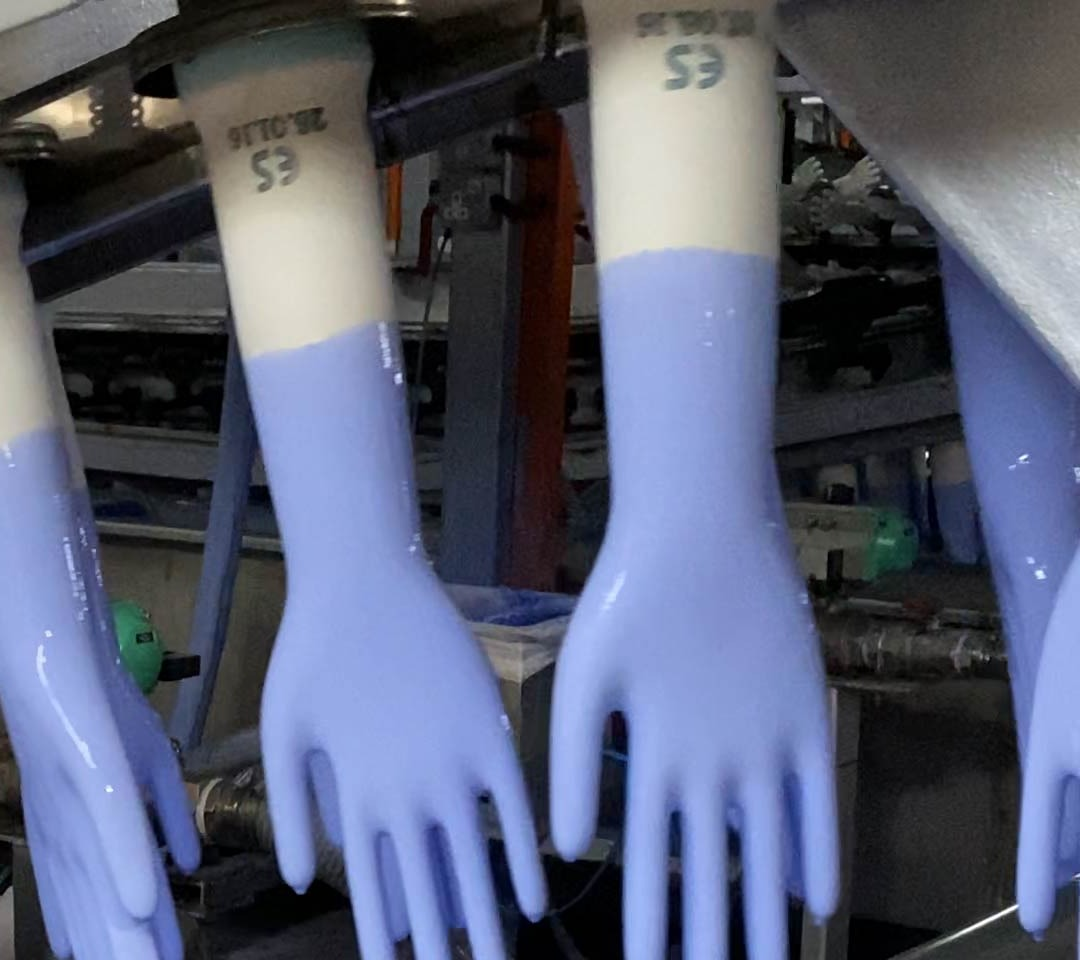glove: (546, 247, 844, 960), (232, 318, 545, 960)
